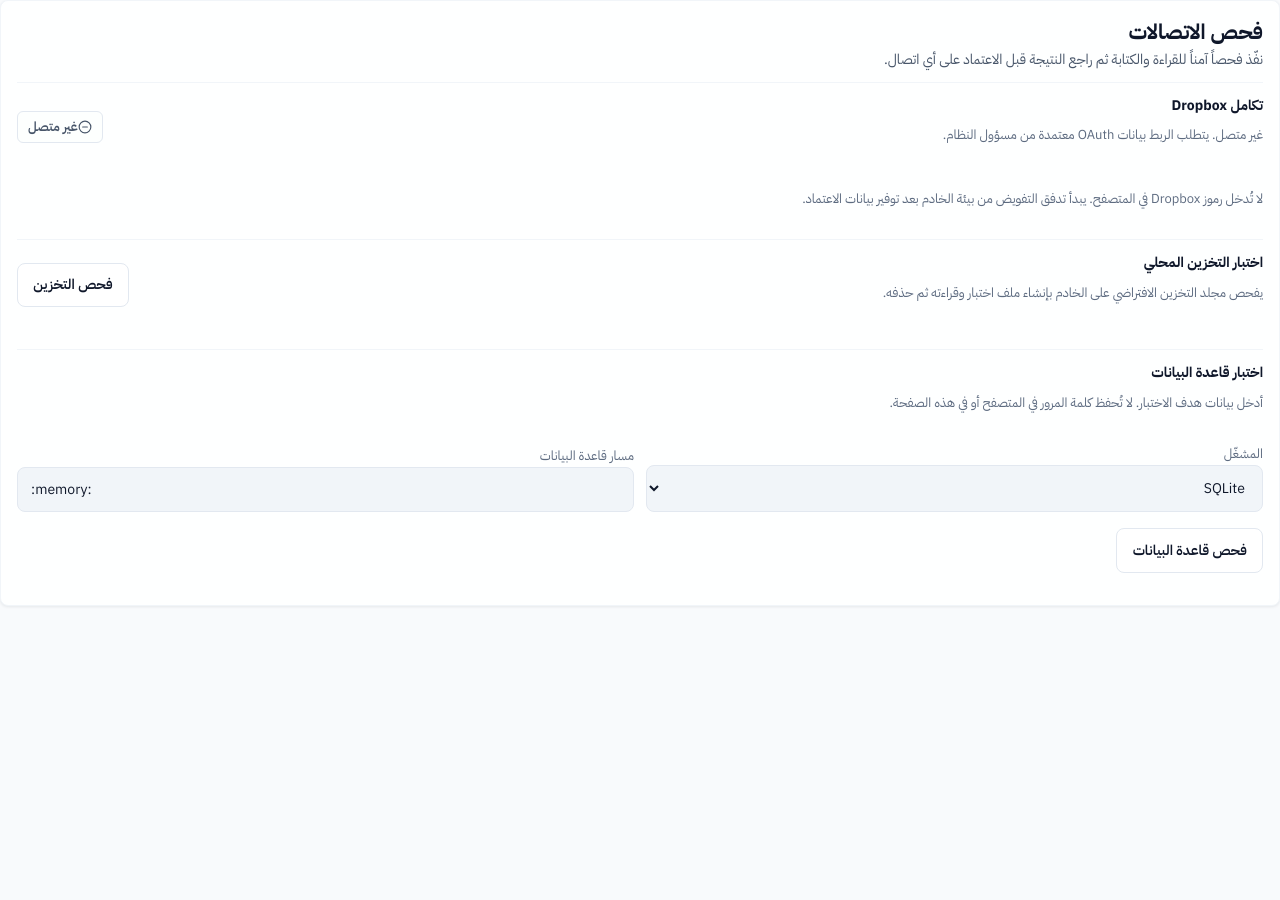
ConnectionTestingPanel › runs the local storage test and shows success
The width and height of the screenshot is (1280, 900).
Click the button "فحص التخزين" at point(73, 285), box [17,262,129,307]
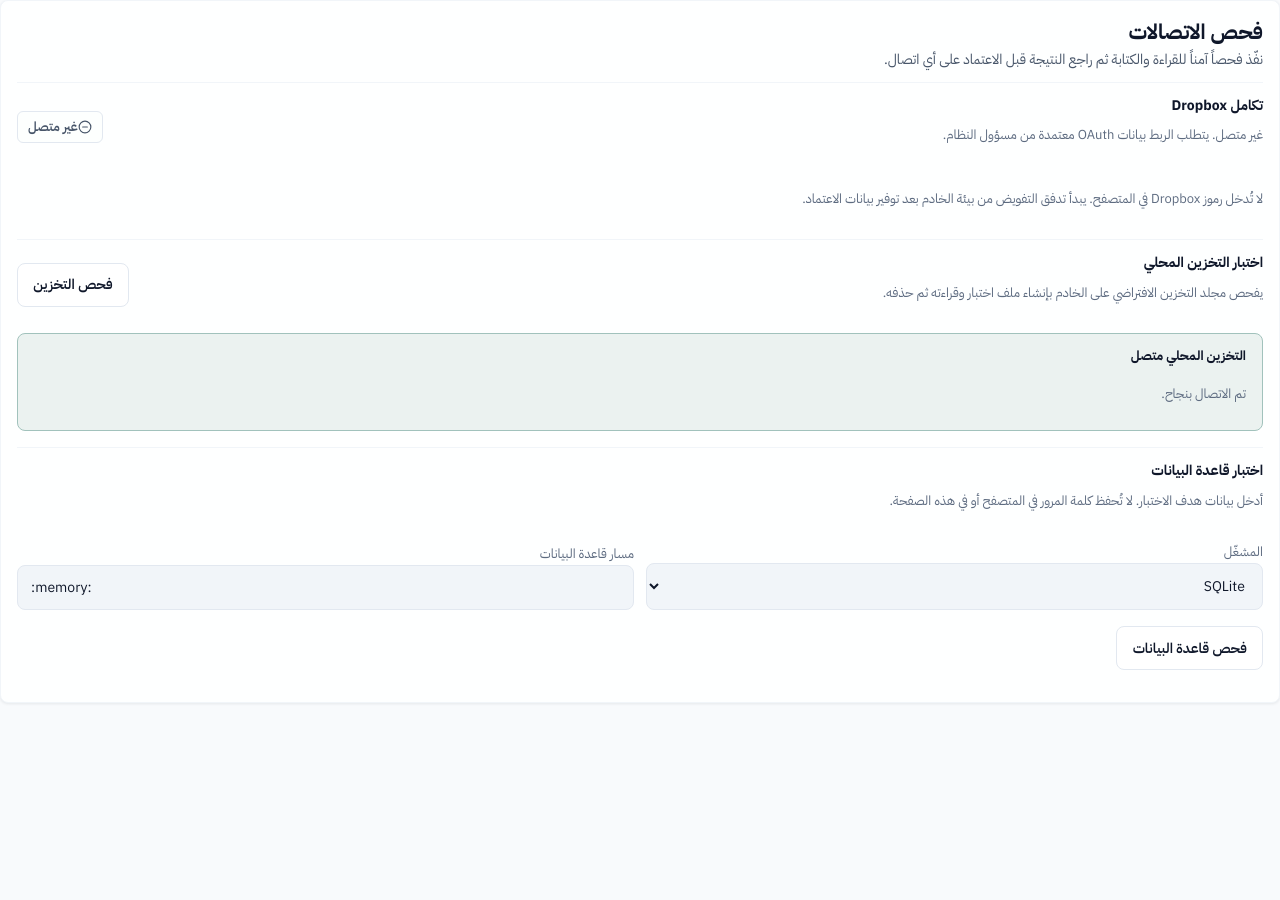
Expected: the text "تم الاتصال بنجاح." is shown, [1161,384,1246,403]
